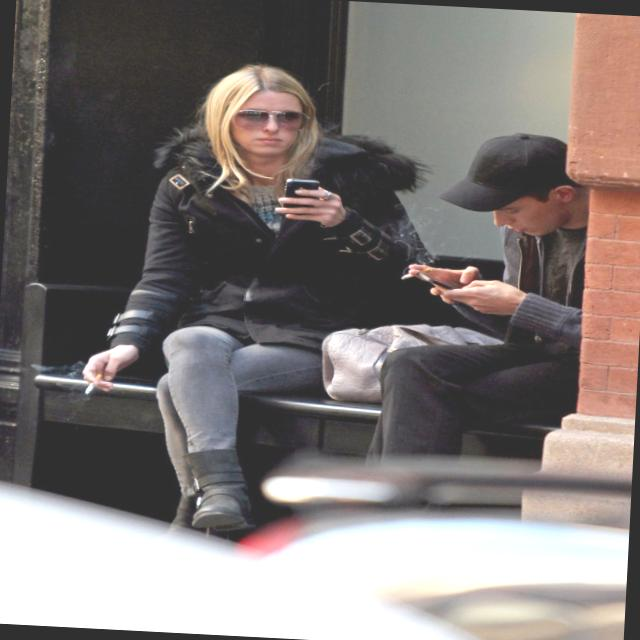smoke: (82, 383, 96, 395), (400, 272, 412, 281)
